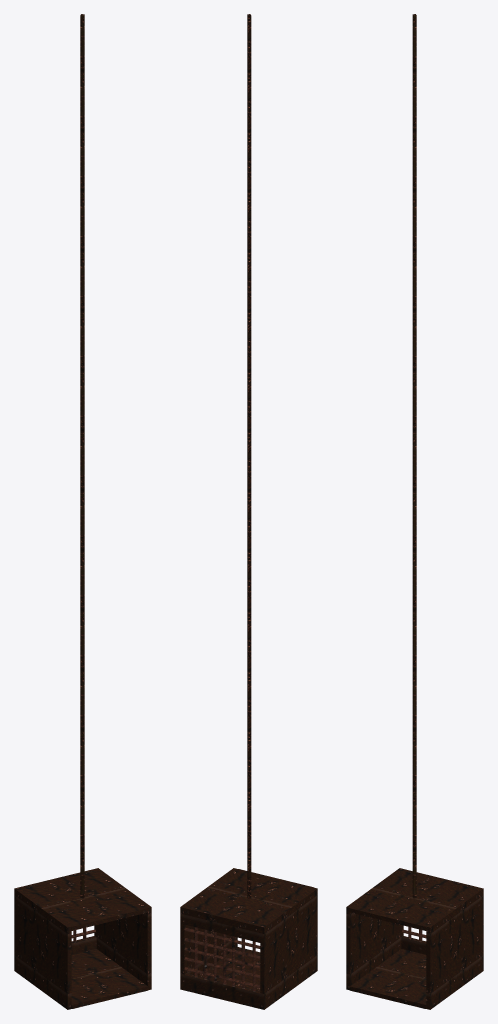
Rendered from Elv.glb.
3 renders of one model, left to right at view 1: azimuth 30°, elevation 25°; view 2: azimuth 150°, elevation 25°; view 3: azimuth 330°, elevation 25°, orthographic.
Parts seen in each view (by area): view 1: Elv; view 2: Elv; view 3: Elv.
Boxes of the visible parts, x1,y1,x2,y2 form: Elv: [14, 14, 151, 1009]; Elv: [180, 14, 317, 1009]; Elv: [346, 14, 483, 1009].
Size of the model in its own units: 188 by 2063 by 208.
3 materials, 3 textured.
